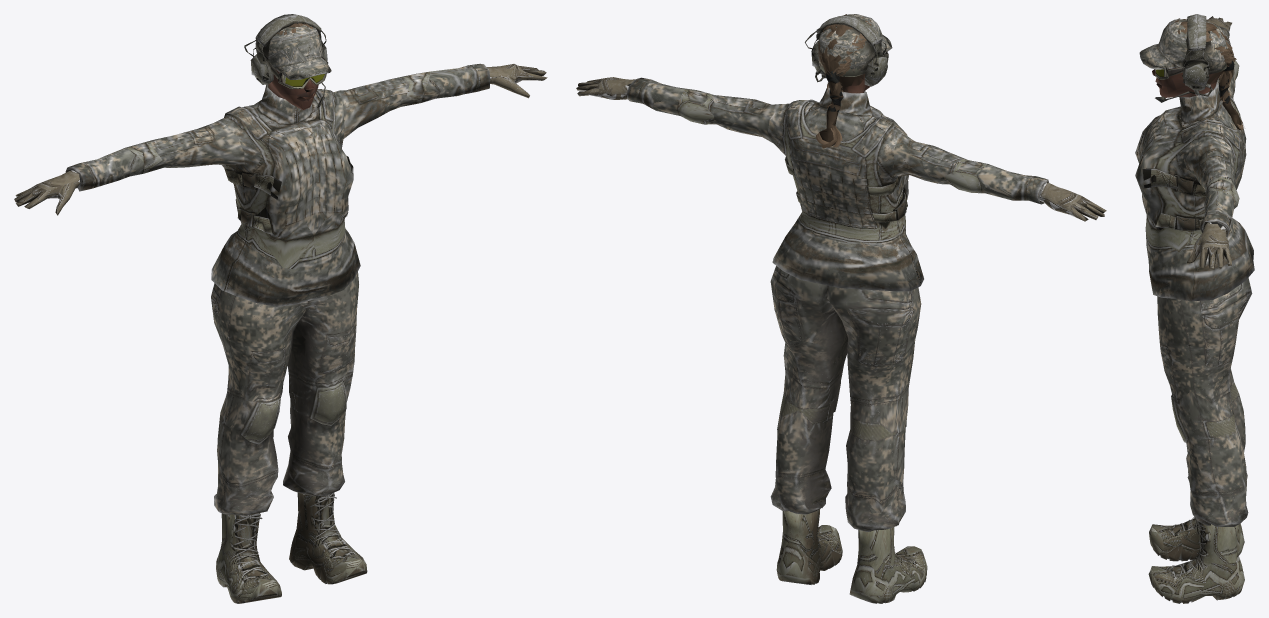
Rendered from female_soldier_black.obj.
3 views of the same model, side by side, from view 1: azimuth 30°, elevation 25°; view 2: azimuth 150°, elevation 25°; view 3: azimuth 270°, elevation 25° (orthographic).
Size of the model in its own units: 184 by 187 by 36.48.
Materials: 8 (8 with a texture image).
